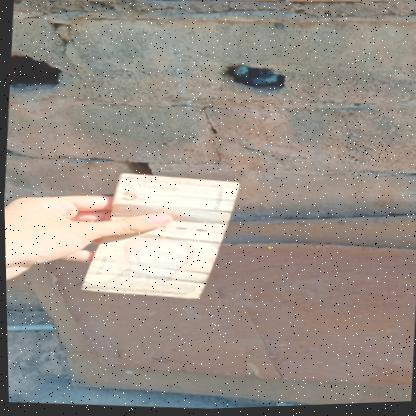five-front-vef: (78, 168, 242, 307)
